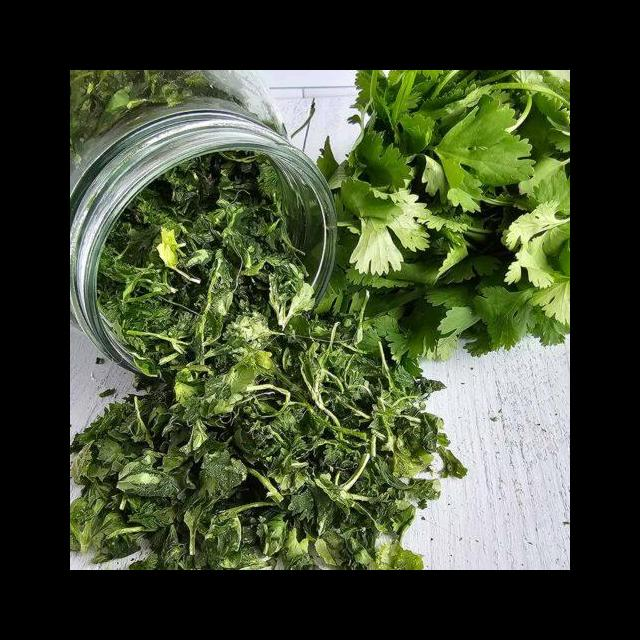cilantro: (314, 70, 569, 364)
